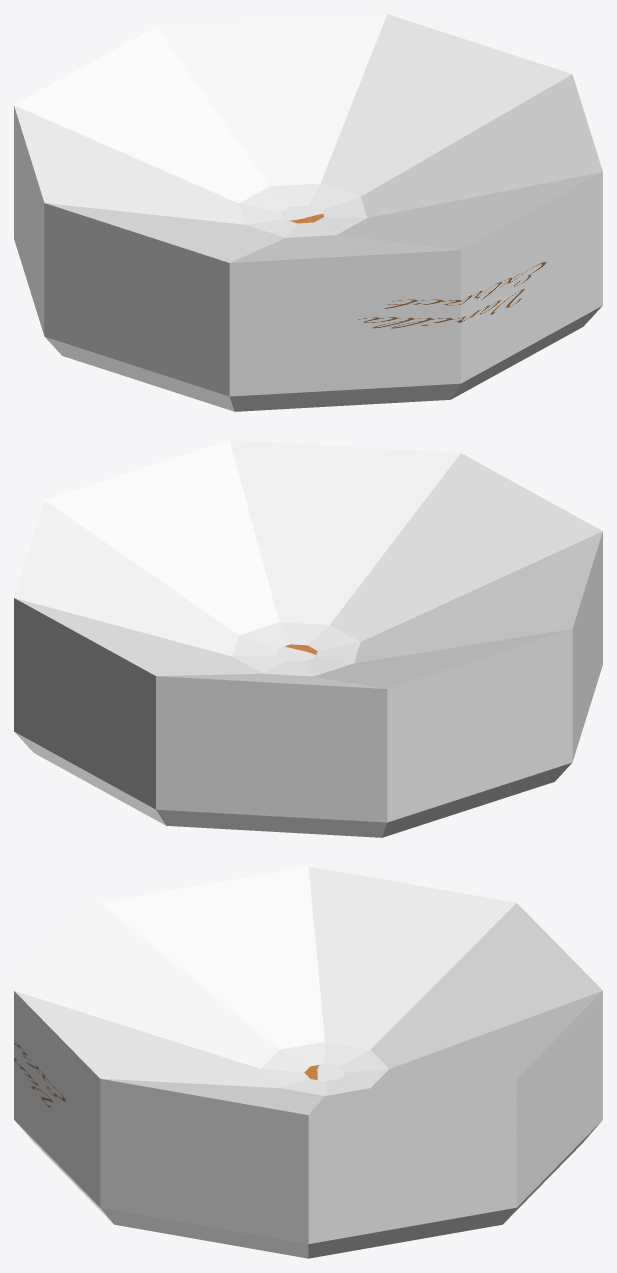
File: Prop masak_Lemon Squeezer.fbx
The picture shows the model from 3 angles, top to bottom: view 1: azimuth 30°, elevation 25°; view 2: azimuth 150°, elevation 25°; view 3: azimuth 270°, elevation 25°; orthographic projection. The views are drawn at different scales.
Visible parts, largest first — view 1: Lemon peras tipis; view 2: Lemon peras tipis; view 3: Lemon peras tipis.
Part boxes in pixels (left/top/right/bottom): Lemon peras tipis: left=14, top=14, right=602, bottom=411; Lemon peras tipis: left=14, top=440, right=602, bottom=837; Lemon peras tipis: left=14, top=866, right=602, bottom=1258.
Size of the model in its own units: 7.9 by 2.25 by 7.9.
